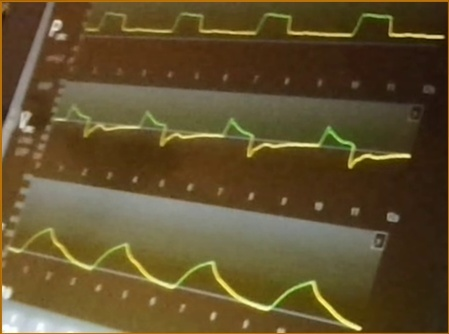Premature_cycling Flow: (58, 101, 409, 173)
Premature_cycling Volume: (10, 223, 361, 330)
